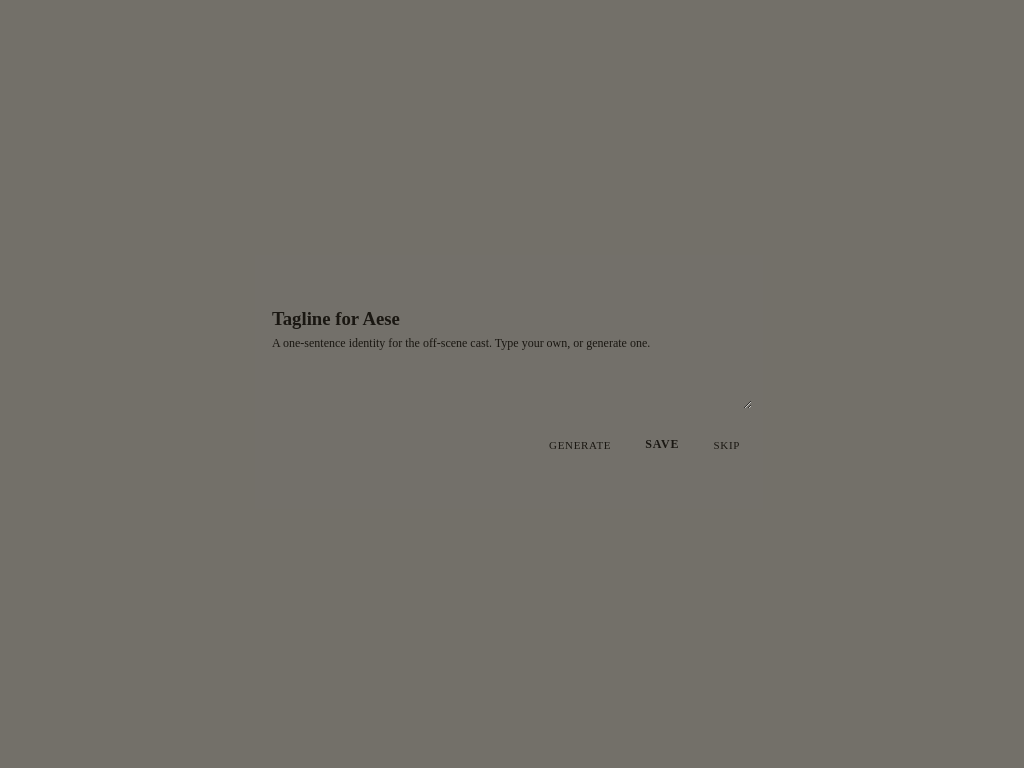
any other Generate failure still shows the endpoint's own message
The image size is (1024, 768).
Click the button "Generate" at x=580, y=444, box [537,429,623,460]
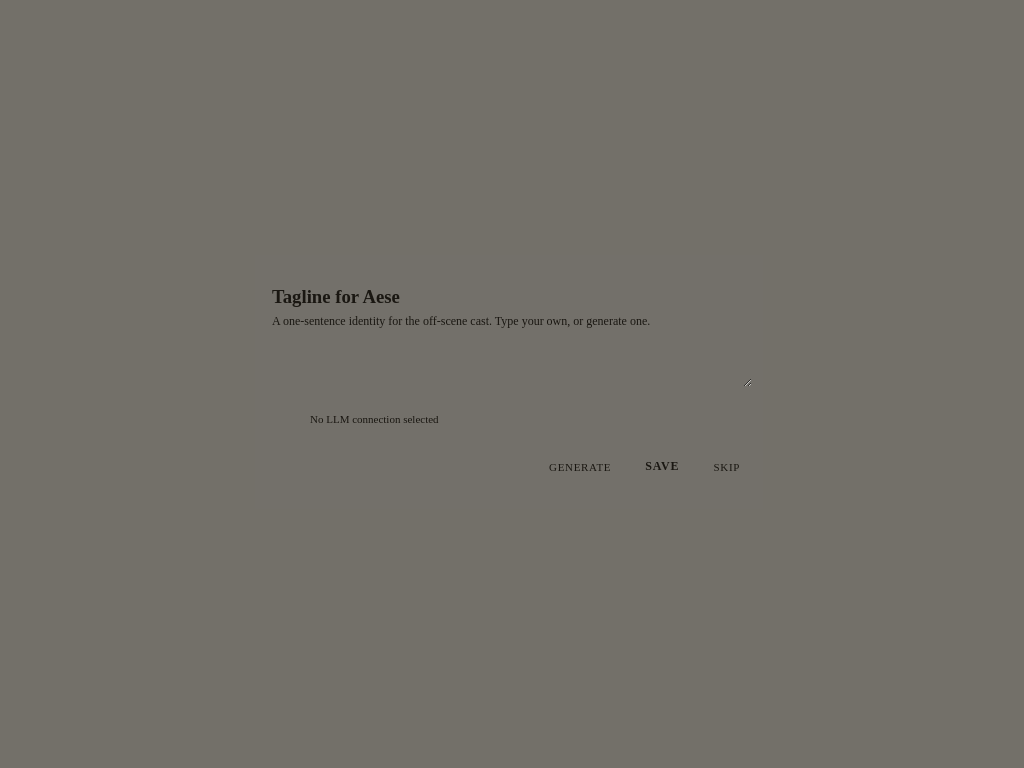
Result: the text "No LLM connection selected" is shown at [310,413,439,425]
